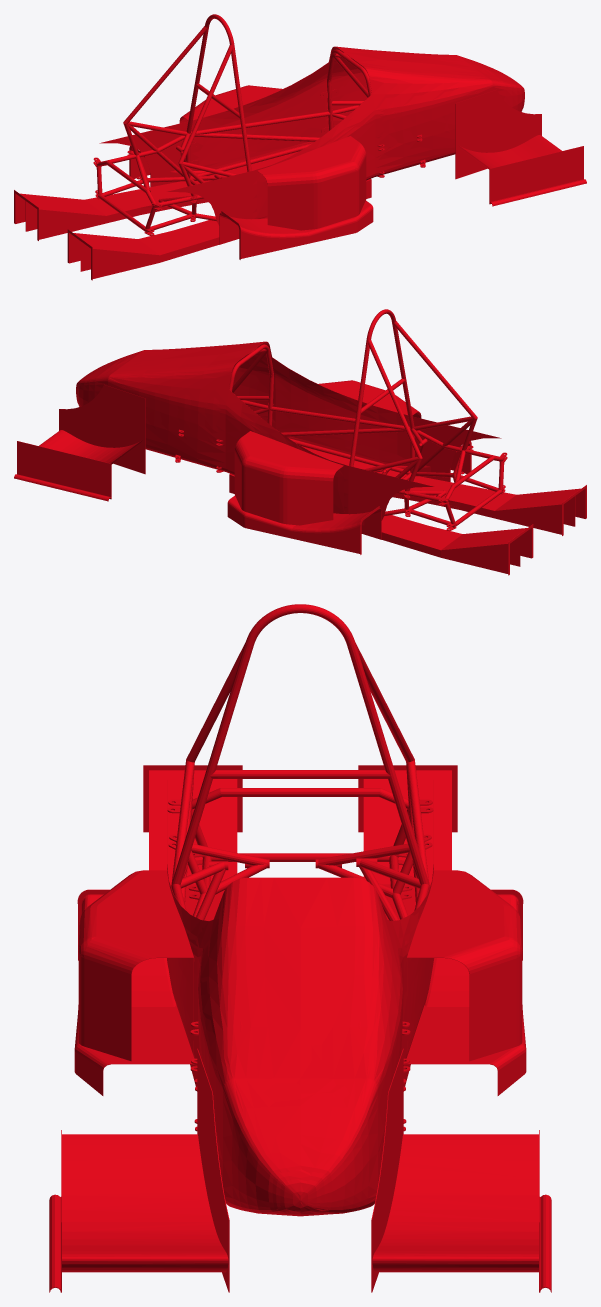
File: body.dae
3 views of the same model, one above another, from view 1: azimuth 30°, elevation 25°; view 2: azimuth 150°, elevation 25°; view 3: azimuth 270°, elevation 25° (orthographic). The views are drawn at different scales.
Parts seen in each view (by area): view 1: Body base link; view 2: Body base link; view 3: Body base link.
Boxes of the visible parts, bbox=[...] form: Body base link: bbox=[14, 14, 586, 280]; Body base link: bbox=[14, 309, 586, 575]; Body base link: bbox=[49, 604, 551, 1292].
Bounding box in the file's own units: 3.09 × 1.43 × 1.23.
